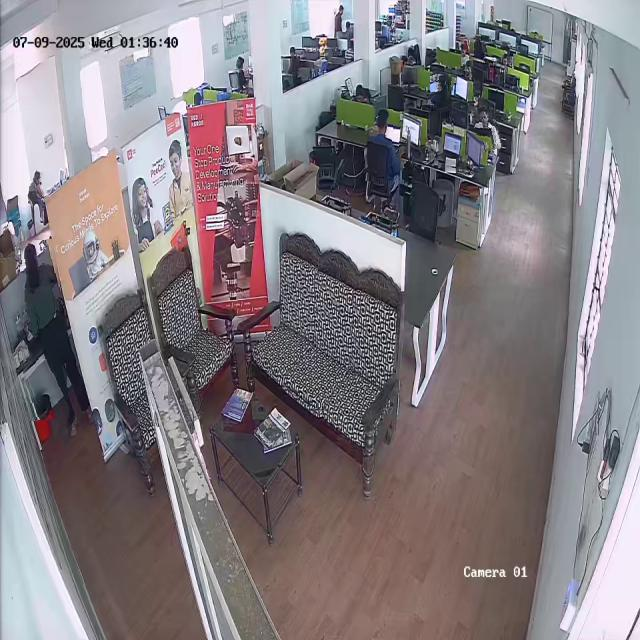person: (17, 240, 66, 420), (365, 109, 400, 182), (473, 106, 500, 152), (428, 73, 453, 112), (29, 171, 51, 202)
